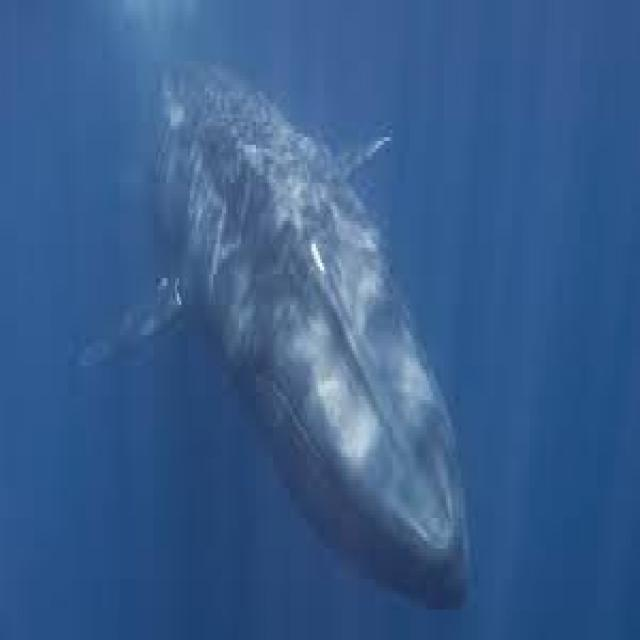blue_whale: (98, 38, 514, 606)
